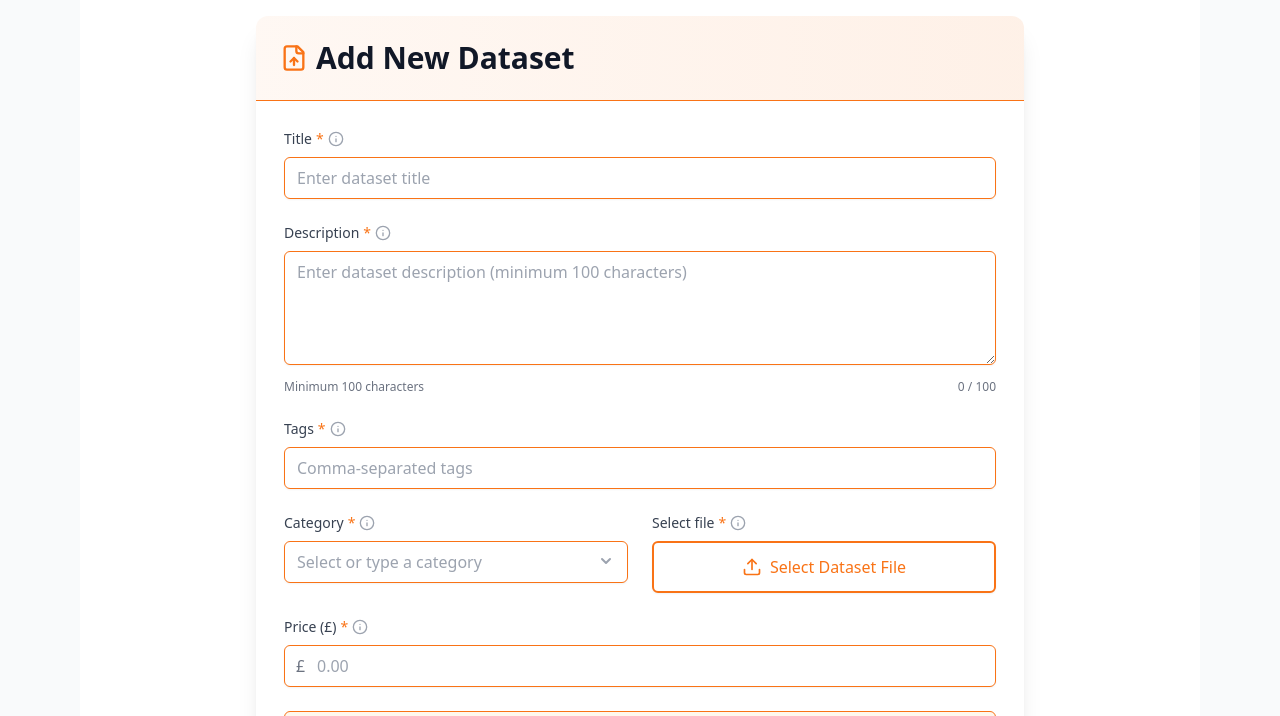
Scenario: DatasetForm Component › integrates with Dropbox for file selection
# Trigger file selection modal
Click the button "Select Dataset File" at [824, 567], box x1=652 y1=541 x2=996 y2=593
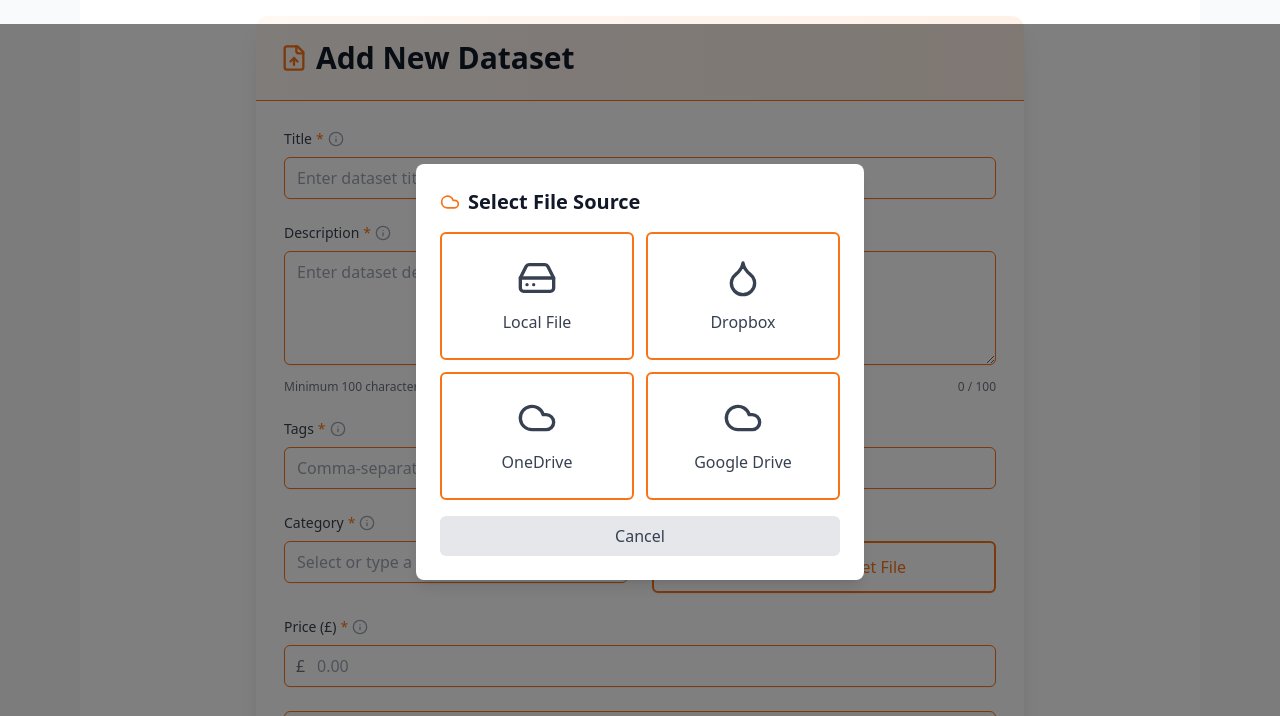
# Click on Dropbox option
Click the button "Dropbox" at [743, 296], box x1=646 y1=232 x2=840 y2=360
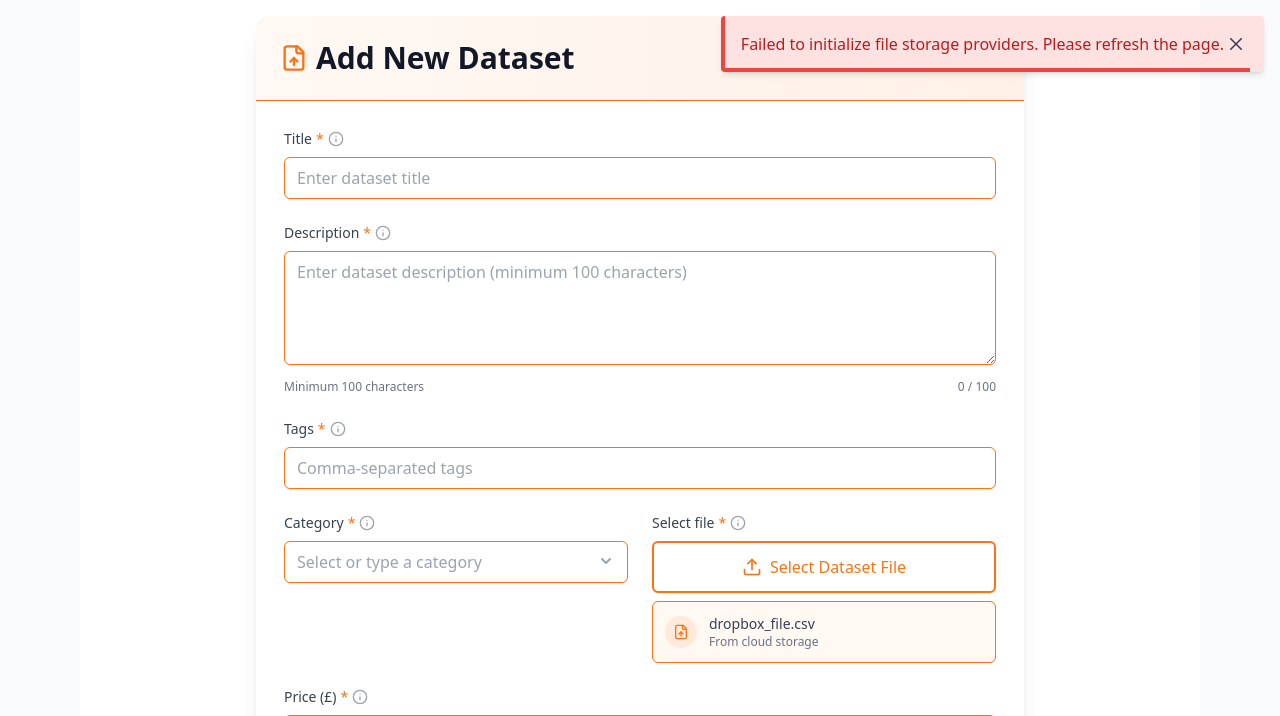
Expected: the text "dropbox_file.csv" is shown, x1=709 y1=614 x2=818 y2=634
Expected: the text "From cloud storage" is shown, x1=709 y1=634 x2=818 y2=650
